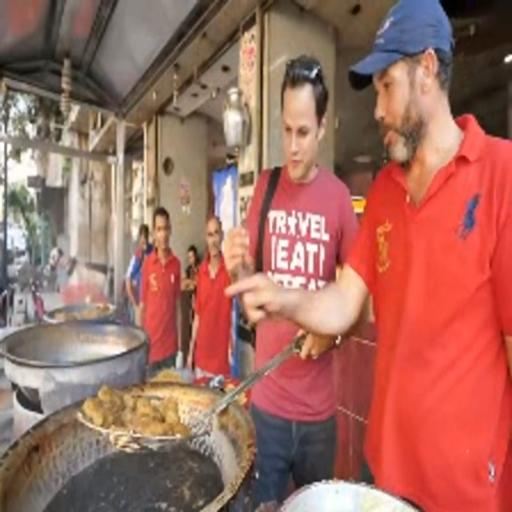nao-violencia: (194, 0, 512, 509)
